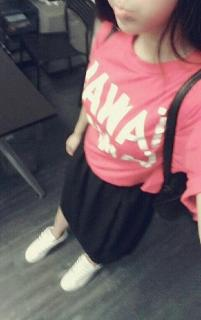short sleeve top: (82, 23, 201, 222)
skirt: (60, 137, 155, 263)
